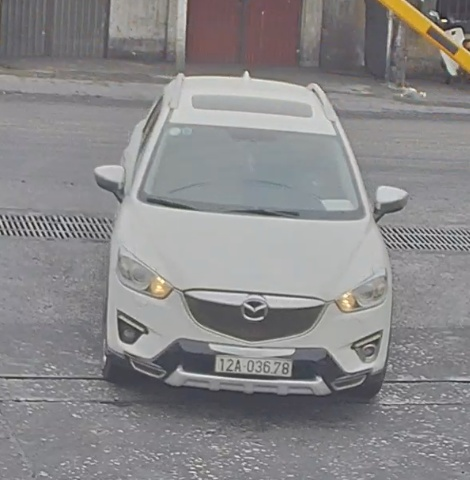vehicle plate: (210, 351, 298, 384)
